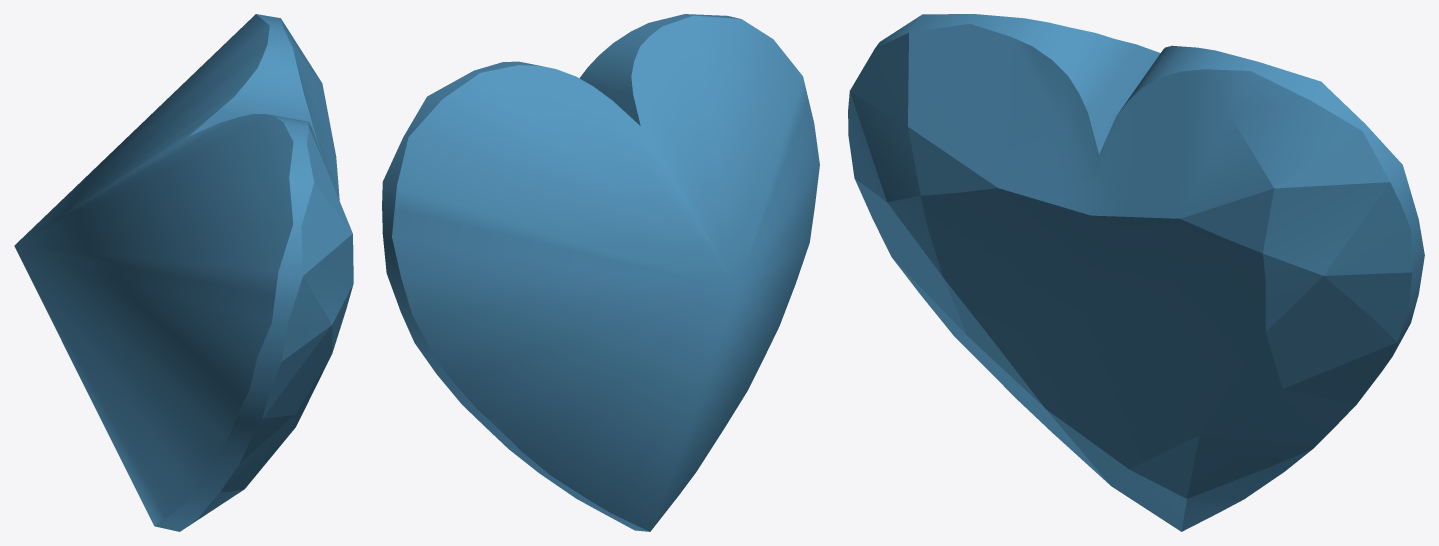
File: TR4_8shapes_heart_Classic_Stone.001 2.glb
The picture shows the model from 3 angles, left to right: view 1: azimuth 30°, elevation 25°; view 2: azimuth 150°, elevation 25°; view 3: azimuth 270°, elevation 25°; orthographic projection. The views are drawn at different scales.
Visible parts, largest first — view 1: TR4_8shapes_heart_Classic_Stone.001; view 2: TR4_8shapes_heart_Classic_Stone.001; view 3: TR4_8shapes_heart_Classic_Stone.001.
Part boxes in pixels (<box>): TR4_8shapes_heart_Classic_Stone.001: <box>14,14,353,531</box>; TR4_8shapes_heart_Classic_Stone.001: <box>382,14,819,531</box>; TR4_8shapes_heart_Classic_Stone.001: <box>848,14,1424,531</box>.
Size of the model in its own units: 0.354 by 0.4846 by 0.4679.
